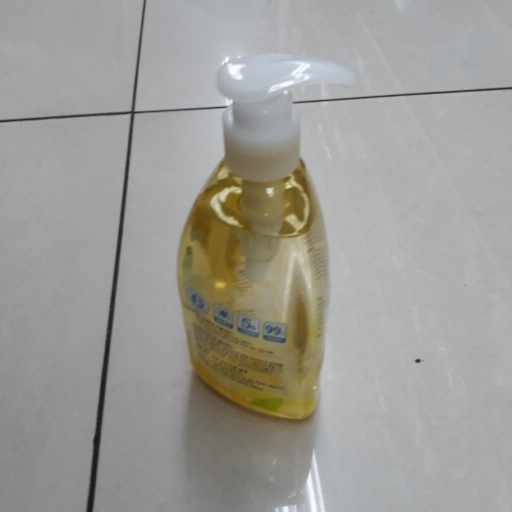Plastic_3: (177, 53, 354, 424)
